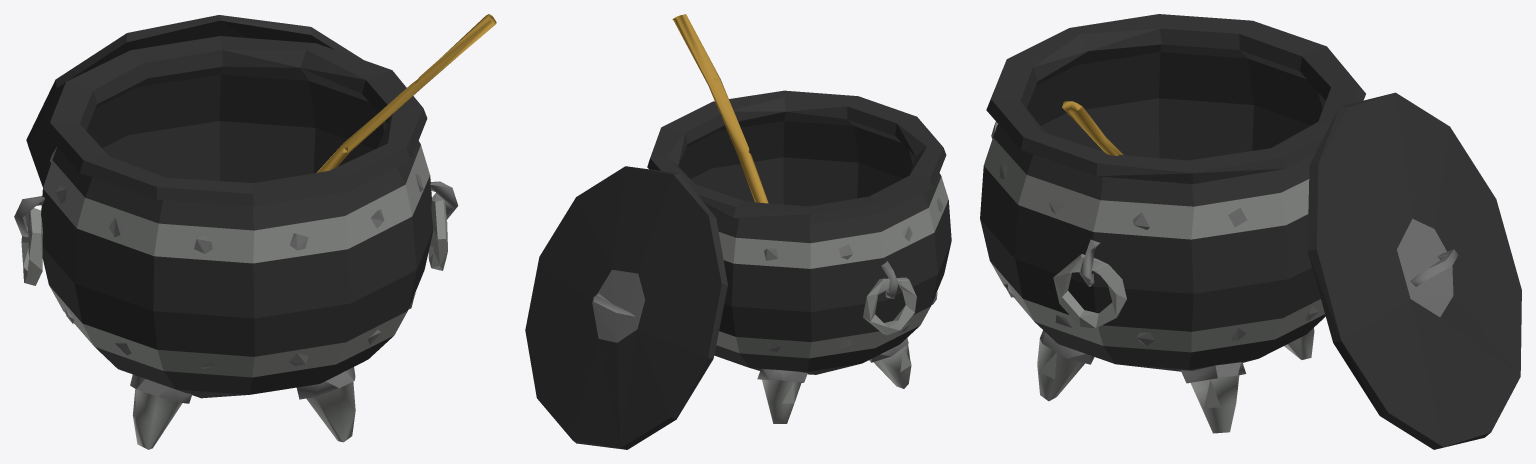
The model's file is cbf456d8-f2fe-4025-8ebc-47958434f5f9.glb.
3 renders of one model, left to right at view 1: azimuth 30°, elevation 25°; view 2: azimuth 150°, elevation 25°; view 3: azimuth 270°, elevation 25°, orthographic. The views are drawn at different scales.
Visible parts, largest first — view 1: WitchPotEmpty; view 2: WitchPotEmpty; view 3: WitchPotEmpty.
Boxes of the visible parts, box(x1,y1,x2,y2) form: WitchPotEmpty: box(14, 14, 496, 449); WitchPotEmpty: box(525, 14, 951, 449); WitchPotEmpty: box(980, 14, 1521, 449).
Size of what is drawn, in the model's own units: 1.35 by 1.14 by 1.5.
1 material, 1 textured.
